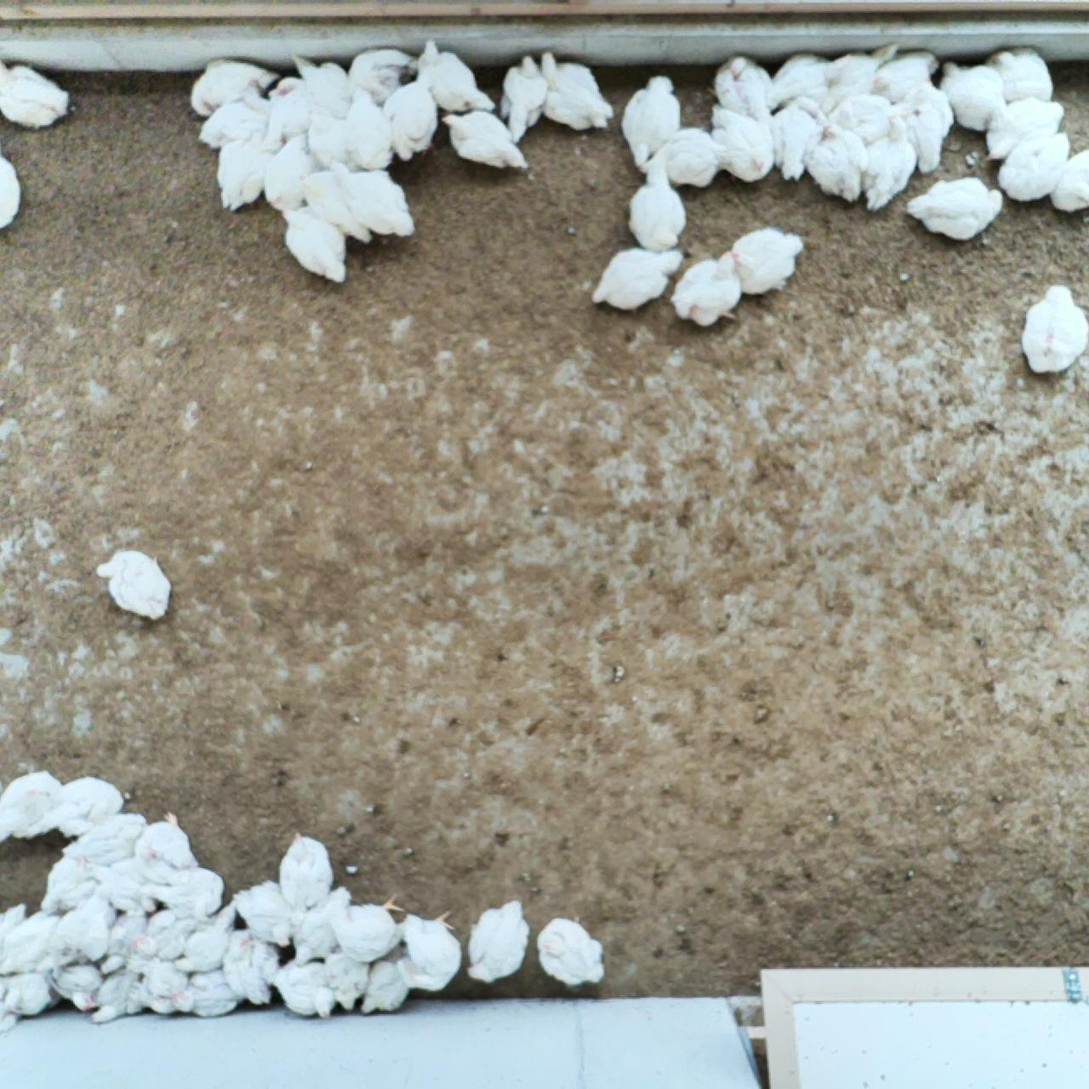chicken: (328, 160, 418, 239), (902, 176, 1007, 243), (529, 50, 611, 133), (411, 40, 496, 119), (1020, 283, 1089, 378), (295, 162, 374, 244), (627, 152, 691, 253), (436, 105, 528, 175), (815, 43, 901, 117), (587, 247, 690, 308), (976, 99, 1070, 165), (620, 74, 683, 171), (460, 898, 531, 984), (394, 909, 462, 996), (897, 76, 956, 176), (326, 889, 405, 963), (671, 250, 744, 330), (276, 208, 348, 289), (94, 547, 172, 621), (39, 892, 119, 964), (994, 129, 1072, 202), (729, 224, 811, 293), (863, 112, 917, 216), (335, 85, 395, 178), (711, 105, 777, 189), (231, 877, 310, 947), (185, 58, 277, 117), (0, 53, 72, 128), (0, 766, 68, 844), (770, 94, 830, 182), (76, 854, 161, 916), (74, 959, 148, 1029), (290, 883, 352, 966), (641, 124, 727, 183), (535, 915, 606, 986), (938, 59, 1008, 130), (215, 130, 275, 212), (801, 121, 862, 201), (384, 71, 437, 161), (131, 813, 197, 885), (985, 44, 1057, 110), (131, 905, 210, 965), (144, 863, 227, 920), (59, 812, 148, 865), (176, 901, 240, 974), (769, 49, 836, 118), (348, 44, 422, 106), (197, 93, 272, 153), (273, 958, 341, 1024), (497, 55, 549, 140), (2, 907, 66, 976), (0, 964, 63, 1034), (263, 131, 318, 211), (277, 831, 333, 909), (55, 777, 123, 841), (715, 52, 776, 123), (867, 44, 941, 102), (288, 56, 356, 119), (224, 929, 280, 1004), (826, 90, 904, 143), (267, 78, 329, 142), (167, 969, 243, 1020), (101, 905, 153, 979), (41, 953, 101, 1017), (40, 852, 97, 917), (131, 959, 197, 1015), (321, 944, 373, 1011), (303, 107, 350, 173), (1048, 143, 1089, 217), (356, 958, 408, 1015), (0, 150, 24, 236), (0, 899, 31, 949)
